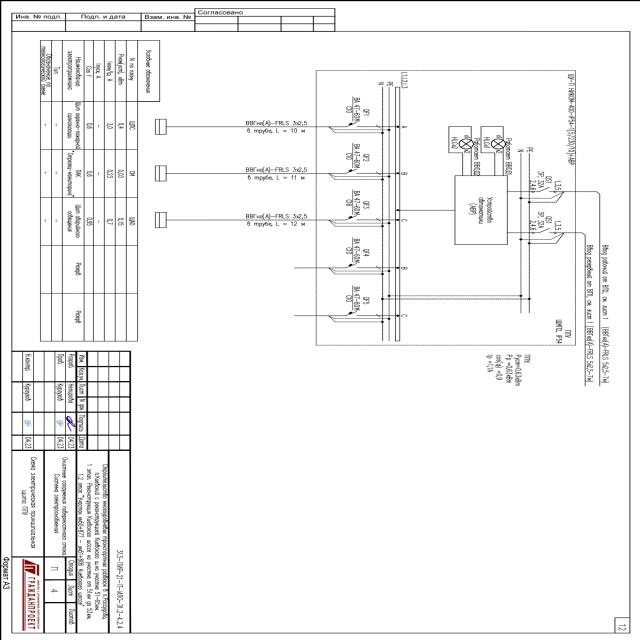-: (552, 317, 572, 343), (344, 95, 360, 122), (344, 188, 360, 214), (344, 236, 359, 262), (344, 142, 359, 168), (344, 284, 359, 310), (534, 208, 544, 228), (536, 168, 544, 188), (450, 134, 460, 150), (482, 134, 490, 148)
AVR: (466, 194, 493, 224)
HL: (490, 137, 506, 149), (457, 137, 473, 149)
QF: (342, 309, 380, 317), (343, 261, 381, 269), (344, 214, 382, 222), (342, 120, 380, 128), (344, 167, 382, 174)
QS: (536, 184, 552, 192), (538, 226, 554, 233)
